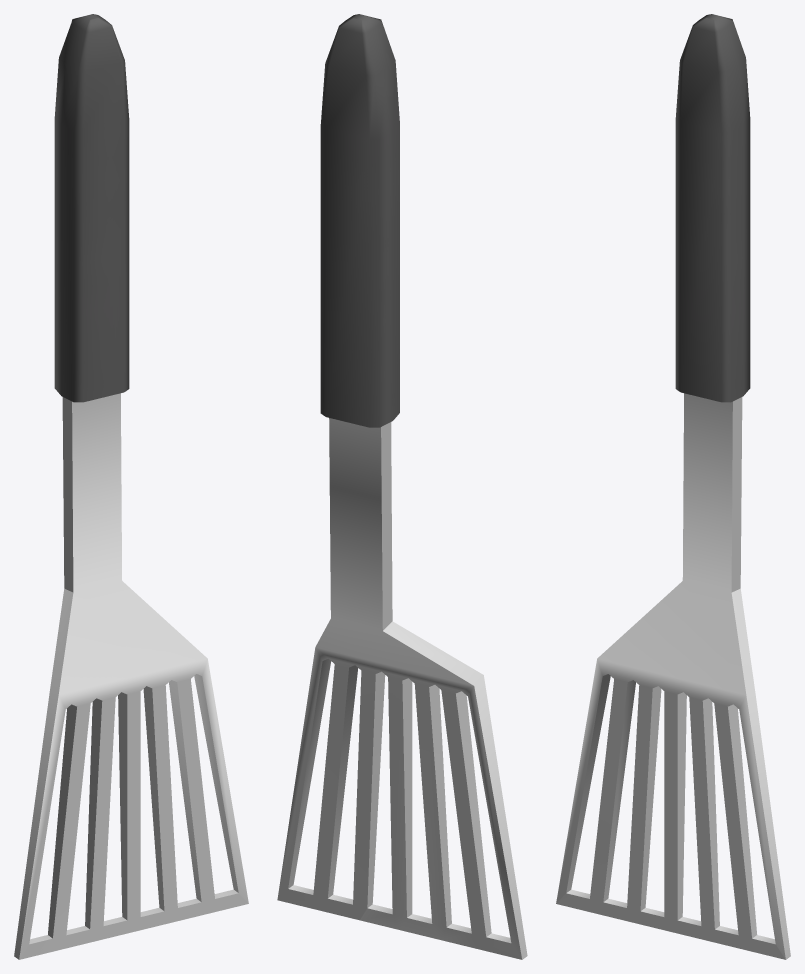
File: SM_Kitchen_GuoChan2.fbx
The picture shows the model from 3 angles, left to right: view 1: azimuth 30°, elevation 25°; view 2: azimuth 150°, elevation 25°; view 3: azimuth 330°, elevation 25°; orthographic projection. The views are drawn at different scales.
Parts seen in each view (by area): view 1: SM_Kitchen_GuoChan2; view 2: SM_Kitchen_GuoChan2; view 3: SM_Kitchen_GuoChan2.
Boxes of the visible parts, x1,y1,x2,y2 form: SM_Kitchen_GuoChan2: (14, 14, 248, 959); SM_Kitchen_GuoChan2: (277, 14, 527, 959); SM_Kitchen_GuoChan2: (556, 14, 790, 959).
Size of the model in its own units: 0.0862 by 0.3168 by 0.0351.
